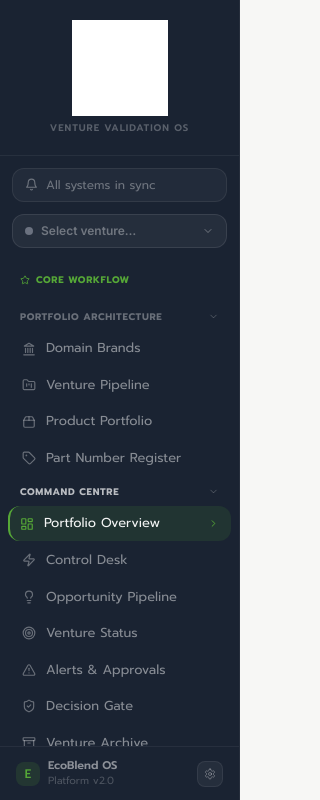
Test: Sidebar — global scope (null selectedVenture) › clicking the gear button opens the panel even in global scope
The width and height of the screenshot is (320, 800).
Click the button with test id "gear-button". click: (210, 774)
box: [197,761,223,787]
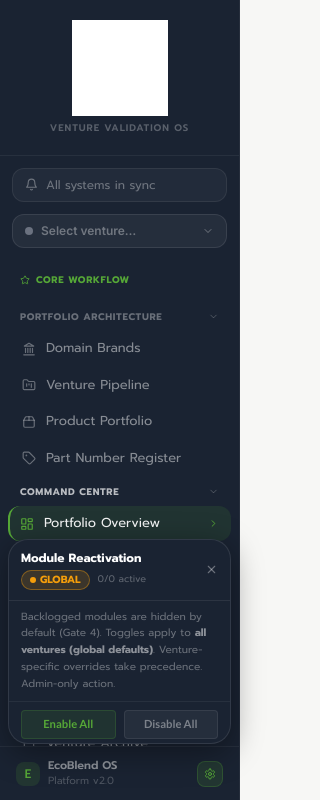
Check: the element with test id "reactivation-panel" is shown, box [8,539,231,744]
